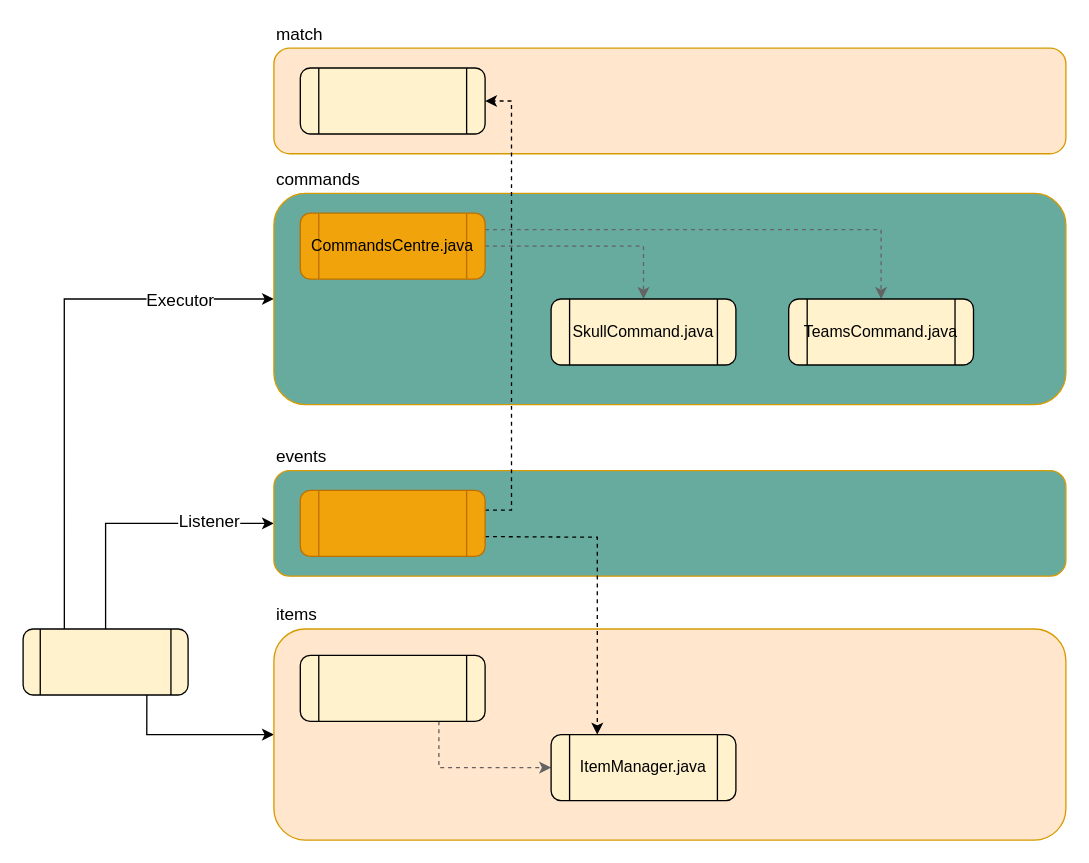
The diagram is 1089 pixels wide and 863 high, and some of its shapes have lost their labels. The shapes that lost their labels are listed below. From the top down, each one's centre as x and y in pixels, then its label:
the point at 392,100: DeathManager.java
the point at 392,522: EventsListener.java
the point at 105,661: UhcMain.java
the point at 392,687: CustomRecipies.java
